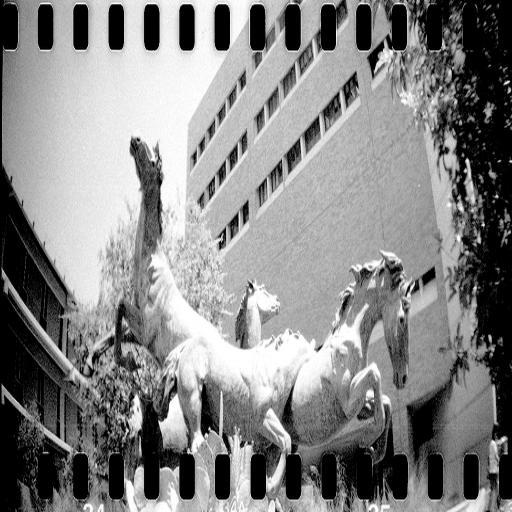Horse: (82, 130, 220, 379), (279, 244, 415, 466), (156, 326, 318, 501), (157, 273, 281, 454)
